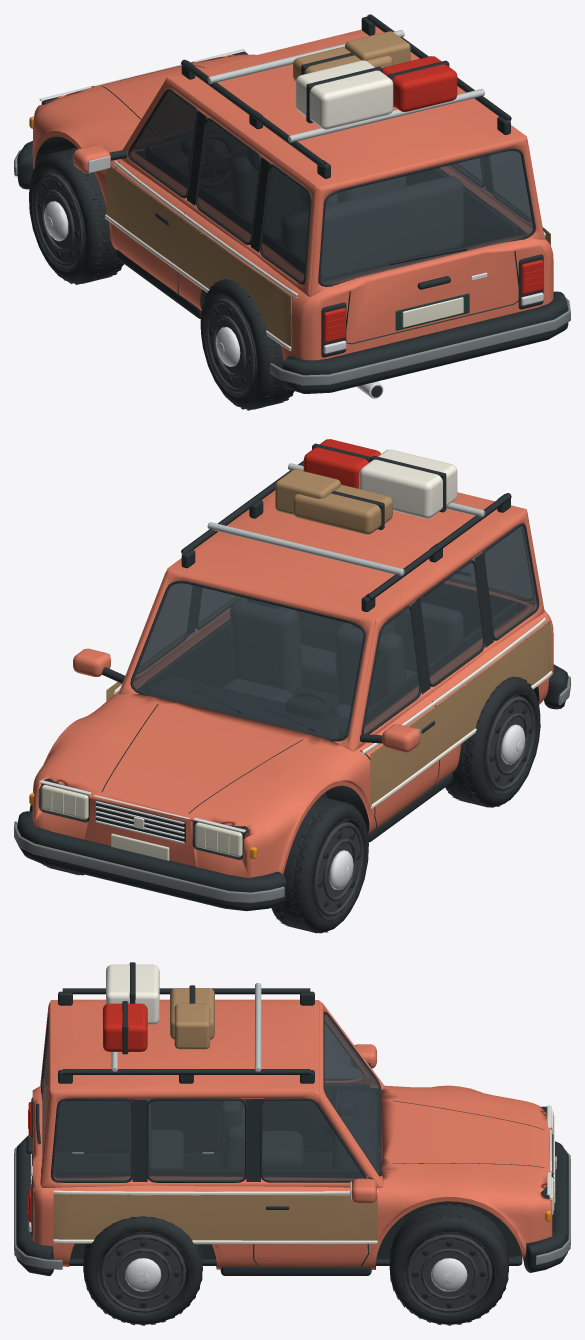
The model's file is heron_lod1.fbx.
The picture shows the model from 3 angles, top to bottom: view 1: azimuth 30°, elevation 25°; view 2: azimuth 150°, elevation 25°; view 3: azimuth 270°, elevation 25°; orthographic projection. The views are drawn at different scales.
Parts seen in each view (by area): view 1: Body, Wheel_FL_Mesh, Wheel_RL_Mesh; view 2: Body, Wheel_FL_Mesh, Wheel_RL_Mesh; view 3: Body, Wheel_FR_Mesh, Wheel_RR_Mesh.
Boxes of the visible parts, box(x1,y1,x2,y2) form: Body: box(14, 14, 570, 398); Wheel_FL_Mesh: box(29, 147, 123, 284); Wheel_RL_Mesh: box(200, 279, 294, 410); Body: box(14, 439, 570, 911); Wheel_FL_Mesh: box(271, 796, 368, 933); Wheel_RL_Mesh: box(445, 676, 540, 807); Body: box(14, 962, 570, 1276); Wheel_FR_Mesh: box(389, 1203, 508, 1325); Wheel_RR_Mesh: box(83, 1216, 202, 1325).
Size of the model in its own units: 233 by 204 by 373.
